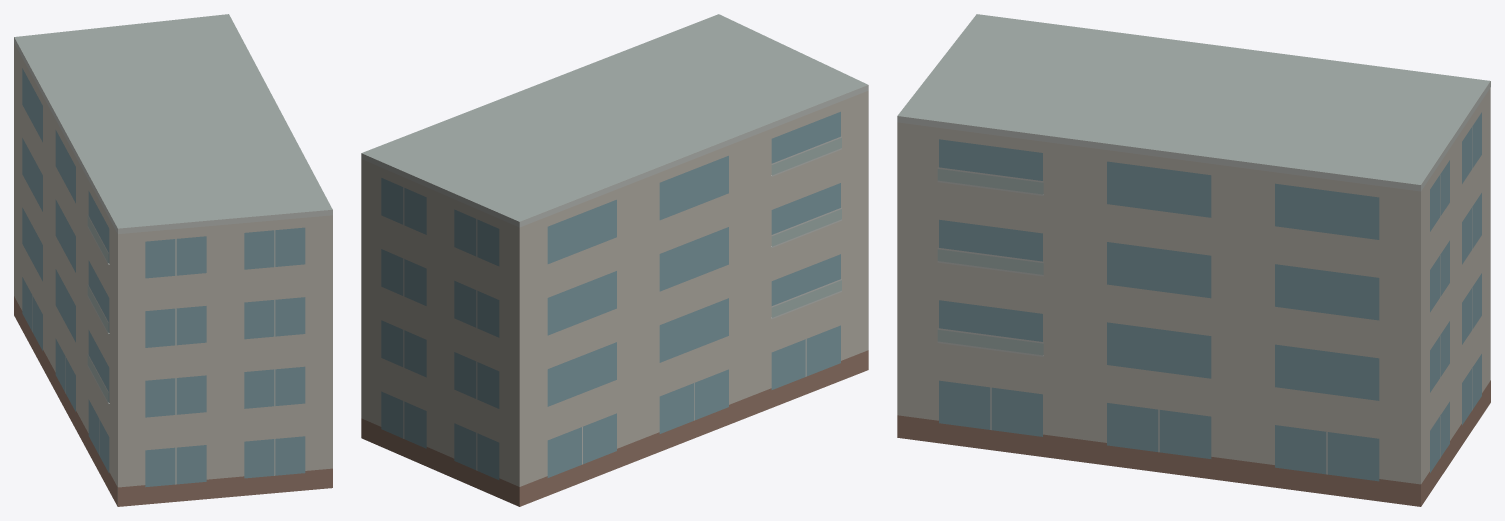
Rendered from survey-upis-32877776.glb.
3 renders of one model, left to right at view 1: azimuth 30°, elevation 25°; view 2: azimuth 150°, elevation 25°; view 3: azimuth 270°, elevation 25°, orthographic. The views are drawn at different scales.
Visible parts, largest first — view 1: survey-upis-32877776.tmp; view 2: survey-upis-32877776.tmp; view 3: survey-upis-32877776.tmp.
Boxes of the visible parts, x1,y1,x2,y2 form: survey-upis-32877776.tmp: (14, 14, 332, 506); survey-upis-32877776.tmp: (361, 14, 868, 506); survey-upis-32877776.tmp: (897, 14, 1490, 506).
Bounding box in the file's own units: 13.92 × 12.2 × 20.4.
